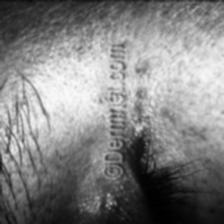Non-Cancerous Skin Condition: (130, 46, 204, 166), (64, 81, 104, 157)
